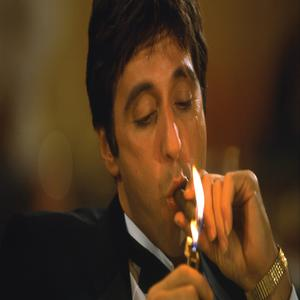cigarette: (176, 187, 204, 228)
